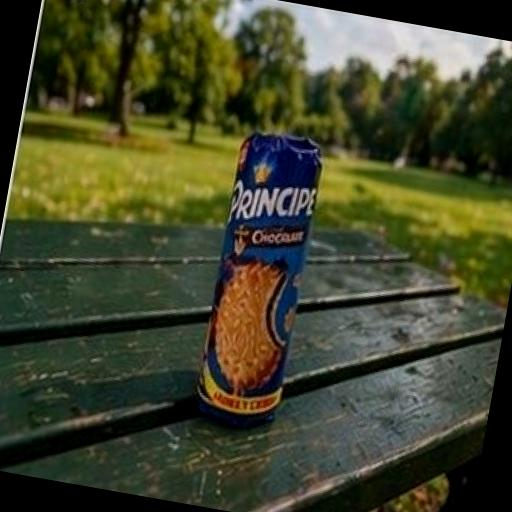prince: (141, 59, 446, 512)
